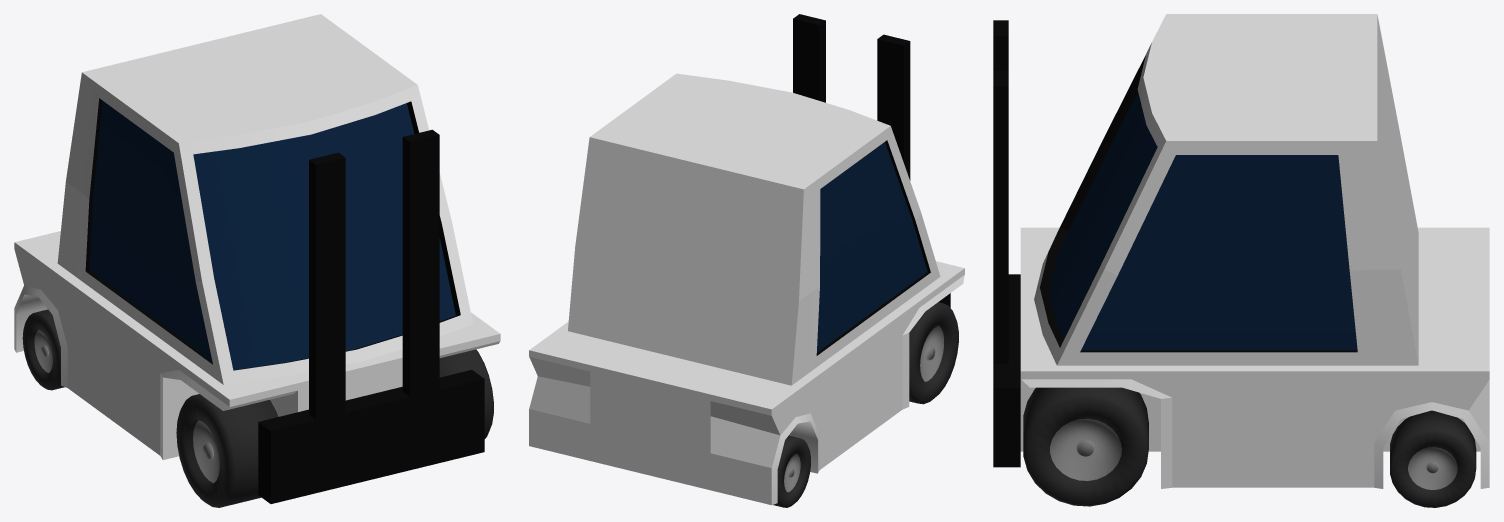
File: Forklift.glb
3 views of the same model, side by side, from view 1: azimuth 30°, elevation 25°; view 2: azimuth 150°, elevation 25°; view 3: azimuth 270°, elevation 25° (orthographic). The views are drawn at different scales.
Visible parts, largest first — view 1: Base Car, FR_Wheel, RR_Wheel, FL_Wheel; view 2: Base Car, FR_Wheel, RR_Wheel; view 3: Base Car, FL_Wheel, RL_Wheel.
Boxes of the visible parts, x1,y1,x2,y2 form: Base Car: (14,14,500,503); FR_Wheel: (176,394,278,507); RR_Wheel: (22,309,64,390); FL_Wheel: (439,349,493,438); Base Car: (529,14,964,505); FR_Wheel: (909,302,958,404); RR_Wheel: (773,435,810,507); Base Car: (993,14,1489,488); FL_Wheel: (1023,387,1148,506); RL_Wheel: (1390,410,1476,507).
Size of the model in its own units: 4.1 by 5.03 by 5.88.
